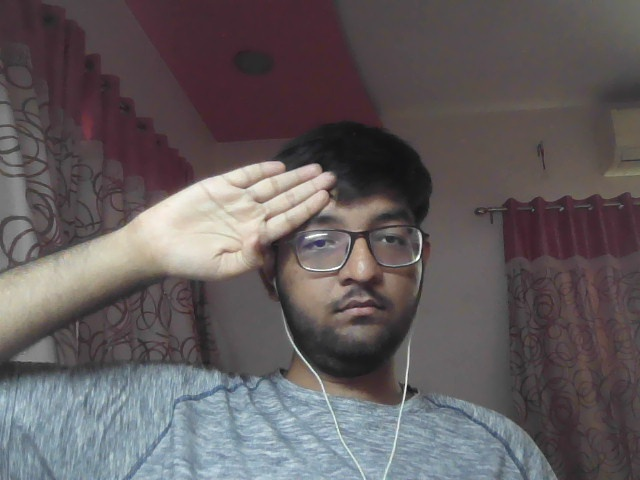નમસ્તે: (106, 139, 342, 284)
